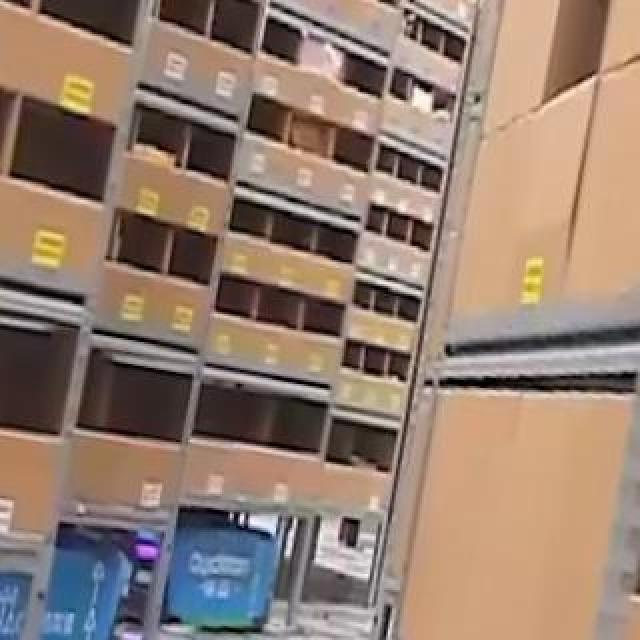pallet: (0, 538, 66, 640)
